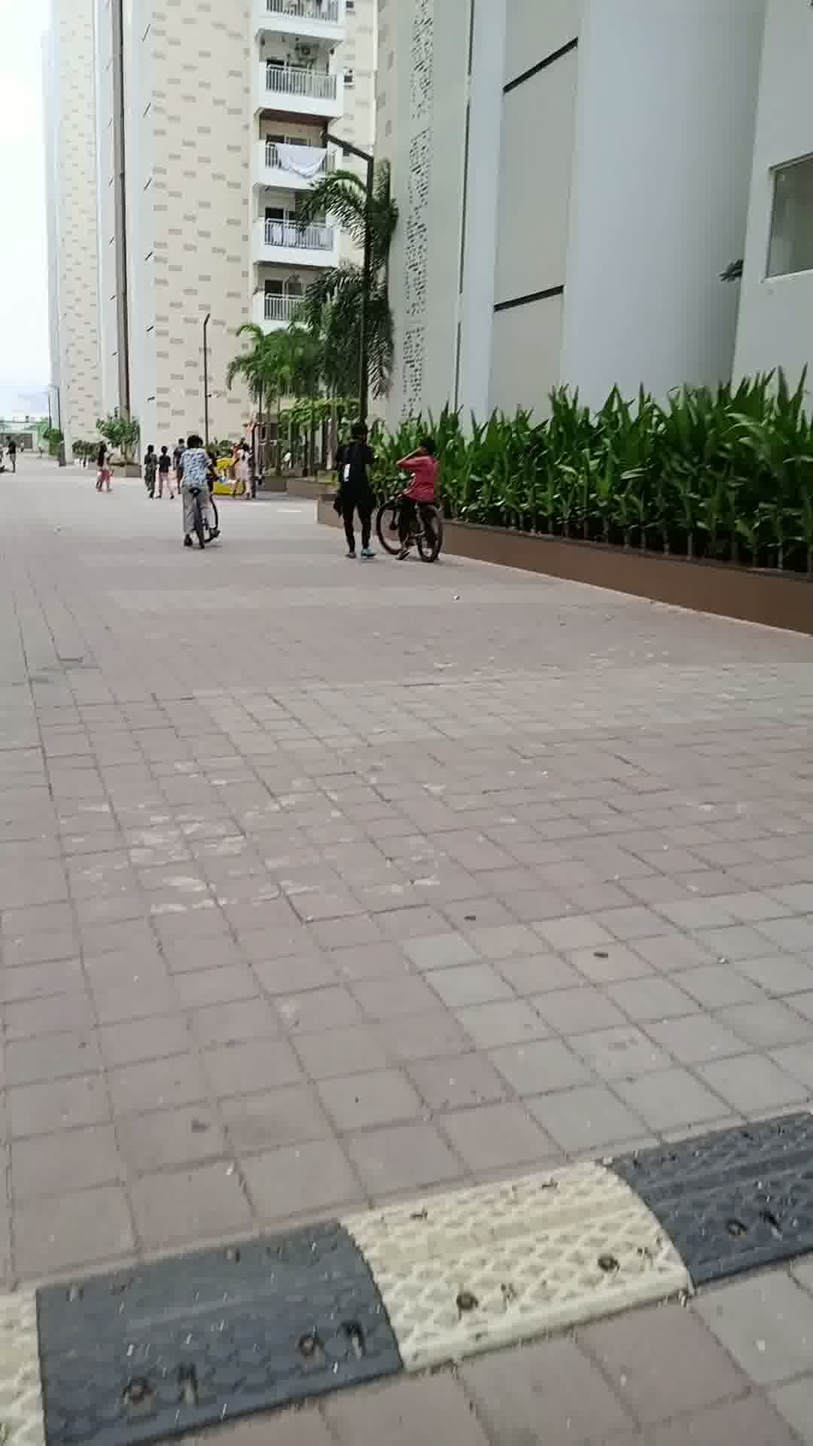bicycle: (378, 477, 460, 567)
person: (323, 416, 382, 567), (395, 426, 446, 555), (182, 427, 217, 555), (233, 442, 257, 511), (142, 432, 159, 504), (94, 438, 114, 497), (158, 442, 176, 506), (1, 429, 24, 477)
tree: (291, 149, 411, 457), (229, 312, 293, 470)
